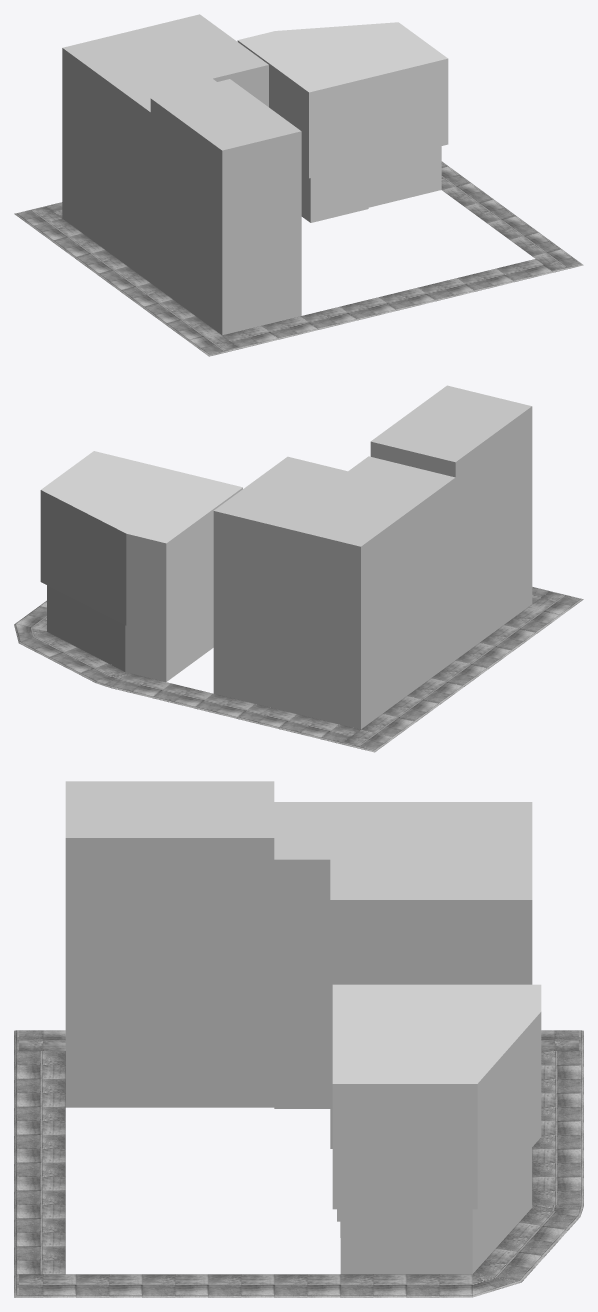
The model's file is alley_sidewalk_assembly.fbx.
The picture shows the model from 3 angles, top to bottom: view 1: azimuth 30°, elevation 25°; view 2: azimuth 150°, elevation 25°; view 3: azimuth 270°, elevation 25°; orthographic projection. The views are drawn at different scales.
Visible parts, largest first — view 1: Box001, Line001, Box002, sidewalk_piece_small012, sidewalk_piece_small009, sidewalk_piece_small014, sidewalk_piece_small010, sidewalk_piece_small011, sidewalk_piece_small015, sidewalk_piece_small008, sidewalk_piece_small013, sidewalk_piece_small019 (+14 smaller); view 2: Box002, Line001, Box001, sidewalk_piece_small006, sidewalk_piece_corner_003, sidewalk_piece_small024, sidewalk_piece_small025, sidewalk_piece_small032, sidewalk_piece_small026, sidewalk_piece_small021, sidewalk_piece_small017, sidewalk_piece_small019 (+7 smaller); view 3: Box001, Line001, Box002, sidewalk_piece_corner_002, sidewalk_piece_small006, sidewalk_piece_corner_003, sidewalk_piece_small, sidewalk_piece_small001, sidewalk_piece_small002, sidewalk_piece_small003, sidewalk_piece_corner_001, sidewalk_piece_small008 (+13 smaller).
Part boxes in pixels (x1,y1,x2,y2): Box001: (150,79,301,335); Line001: (237,22,448,222); Box002: (62,14,268,282); sidewalk_piece_small012: (340,297,396,320); sidewalk_piece_small009: (457,268,513,291); sidewalk_piece_small014: (261,316,317,339); sidewalk_piece_small010: (418,278,474,301); sidewalk_piece_small011: (379,287,435,310); sidewalk_piece_small015: (222,326,278,348); sidewalk_piece_small008: (497,259,552,282); sidewalk_piece_small013: (301,306,357,329); sidewalk_piece_small019: (120,283,172,307); Box002: (213,456,455,729); Line001: (40,451,242,681); Box001: (370,385,532,659); sidewalk_piece_small006: (19,631,107,674); sidewalk_piece_corner_003: (79,663,170,698); sidewalk_piece_small024: (194,693,254,718); sidewalk_piece_small025: (236,704,296,728); sidewalk_piece_small032: (153,683,212,708); sidewalk_piece_small026: (279,714,338,739); sidewalk_piece_small021: (407,678,463,704); sidewalk_piece_small017: (504,607,560,633); sidewalk_piece_small019: (456,642,512,668); Box001: (65,781,274,1107); Line001: (332,984,541,1274); Box002: (274,802,532,1148); sidewalk_piece_corner_002: (340,1274,521,1297); sidewalk_piece_small006: (473,1222,567,1282); sidewalk_piece_corner_003: (519,1177,583,1230); sidewalk_piece_small: (274,1274,340,1297); sidewalk_piece_small001: (208,1274,274,1297); sidewalk_piece_small002: (142,1274,208,1297); sidewalk_piece_small003: (76,1274,142,1297); sidewalk_piece_corner_001: (14,1274,76,1297); sidewalk_piece_small008: (14,1246,65,1275).
Size of what is drawn, in the model's own units: 4472 by 2117 by 4034.
